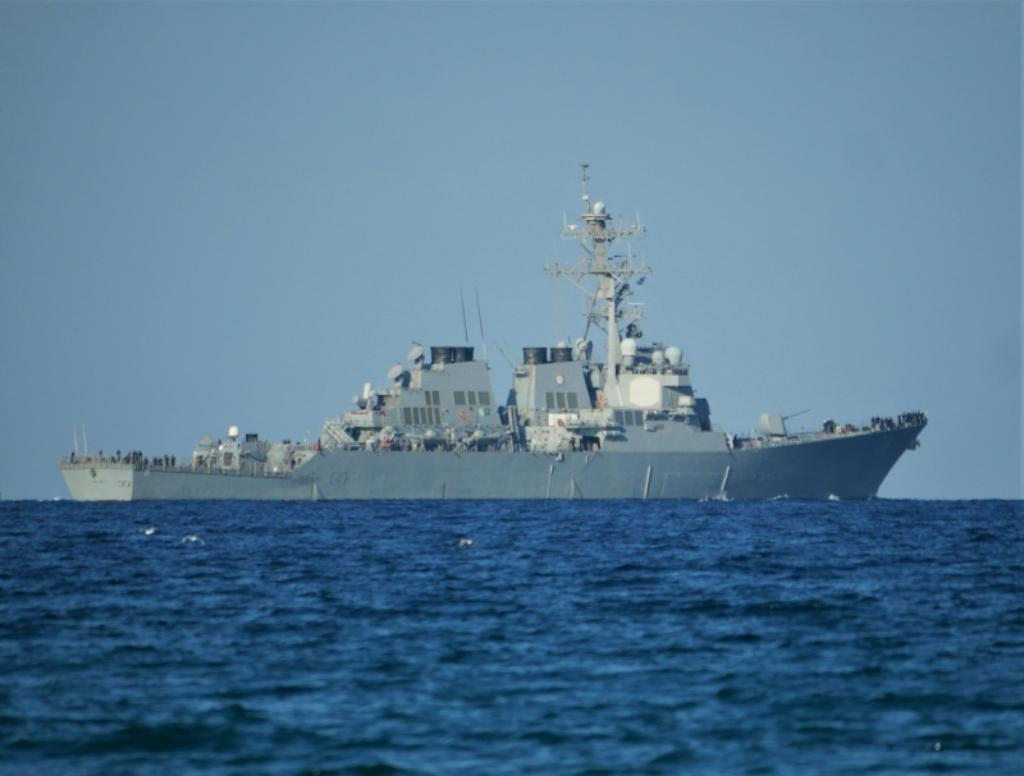Warship: (52, 166, 932, 508)
